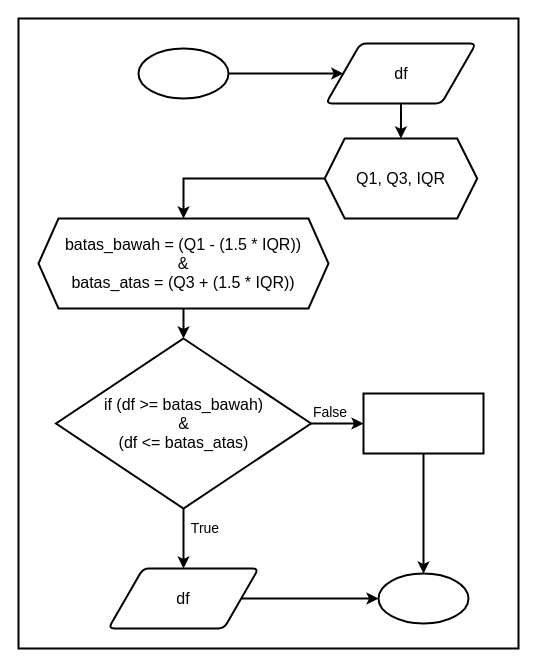
Image size: 536x666. Some labels were removed from this diagram. The shapes that lost their labels are listed below. From the top down, each one's box as (x1, y1, x2, y2) in pixels, then its label:
(137, 47, 229, 99): mulai
(362, 392, 484, 454): hapus data
(377, 572, 469, 624): selesai
